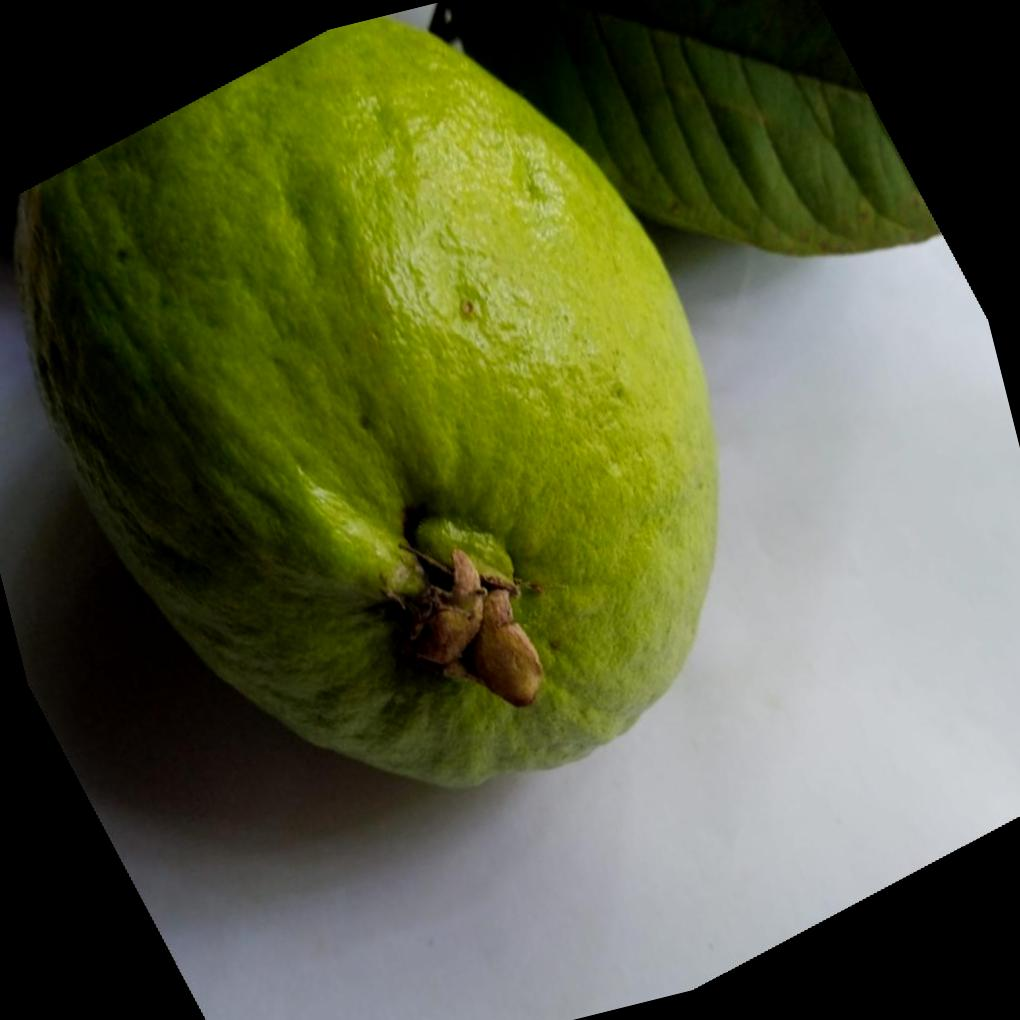FreshGuava: (10, 16, 721, 794)
